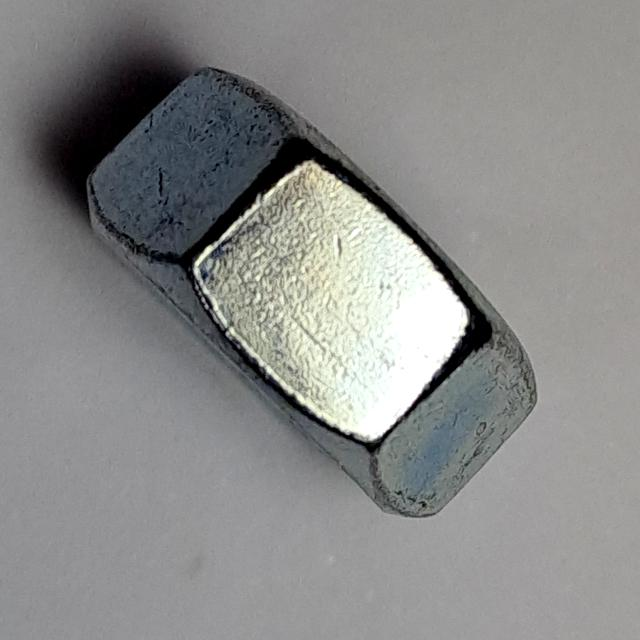Side_Excellent: (79, 60, 547, 527)
